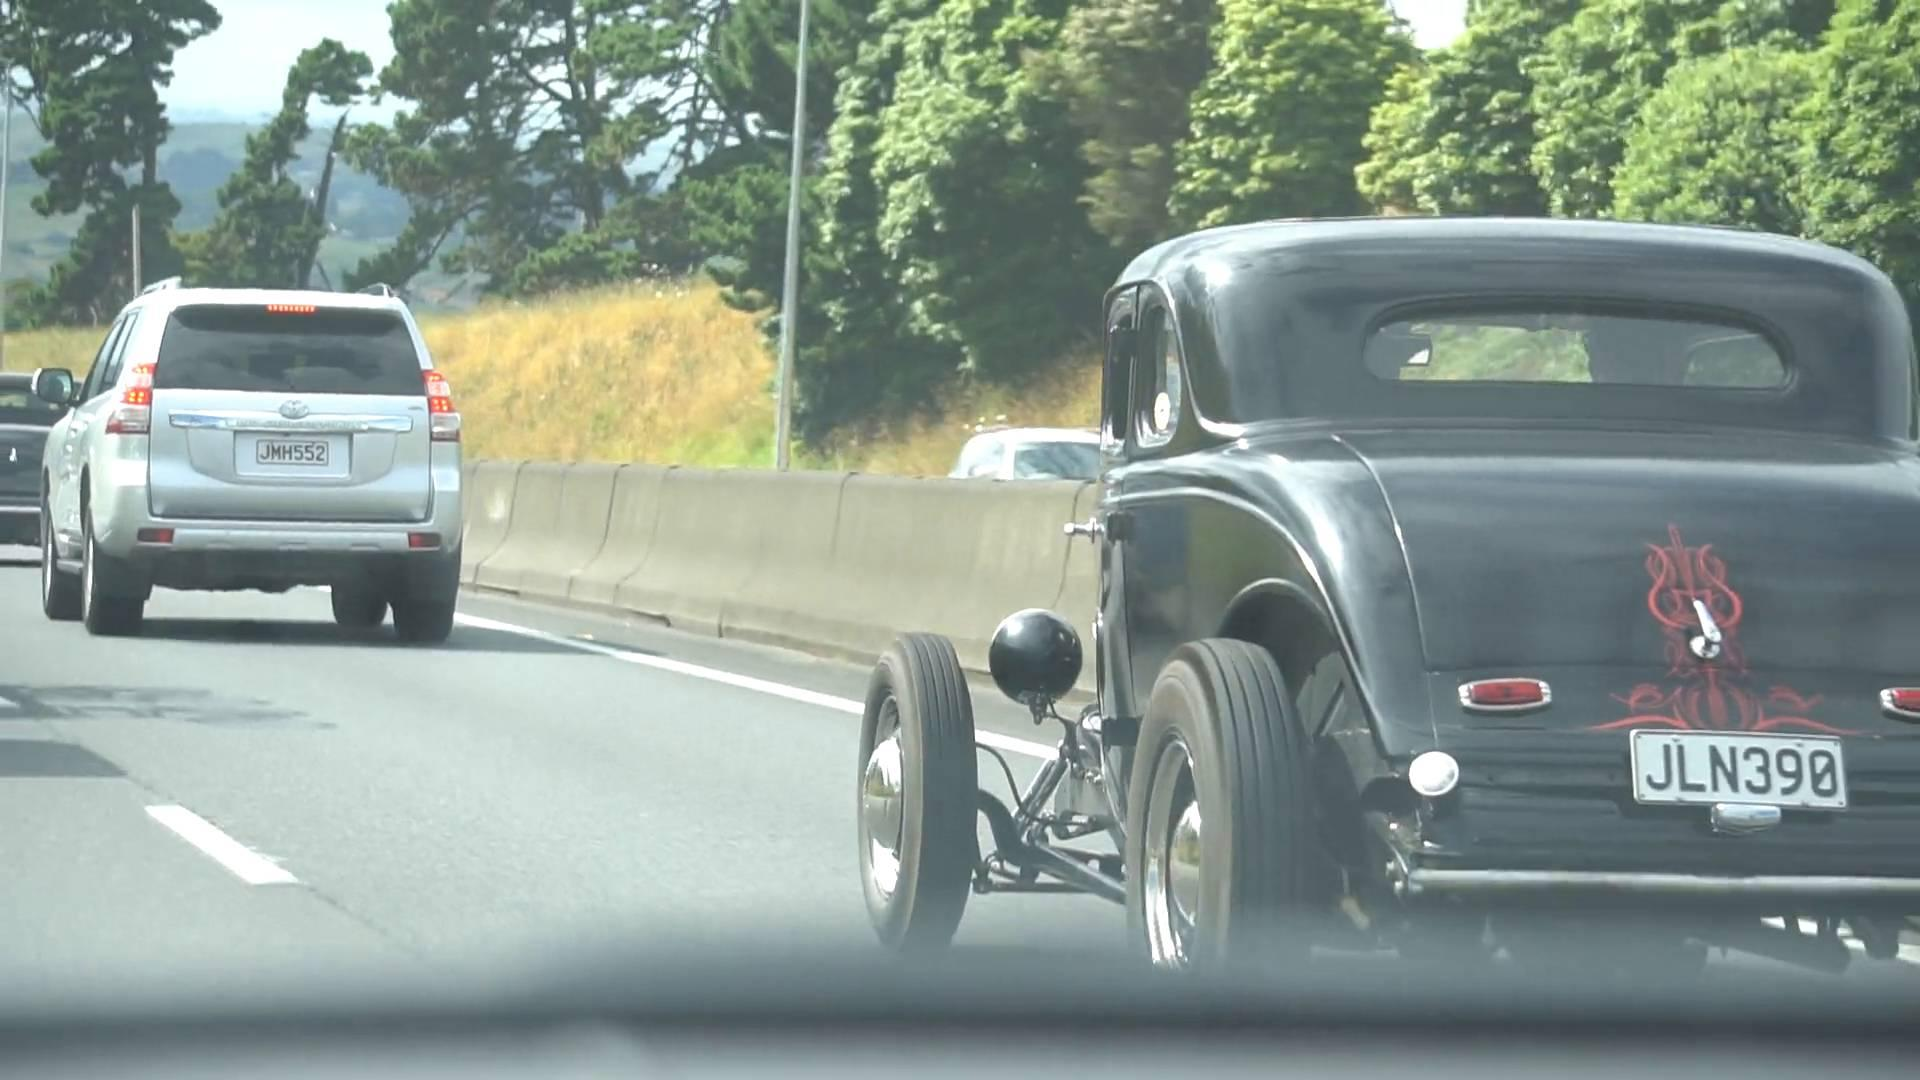car: (854, 213, 1912, 986), (22, 272, 470, 640)
license_plate: (1625, 726, 1849, 806), (254, 434, 337, 465)
